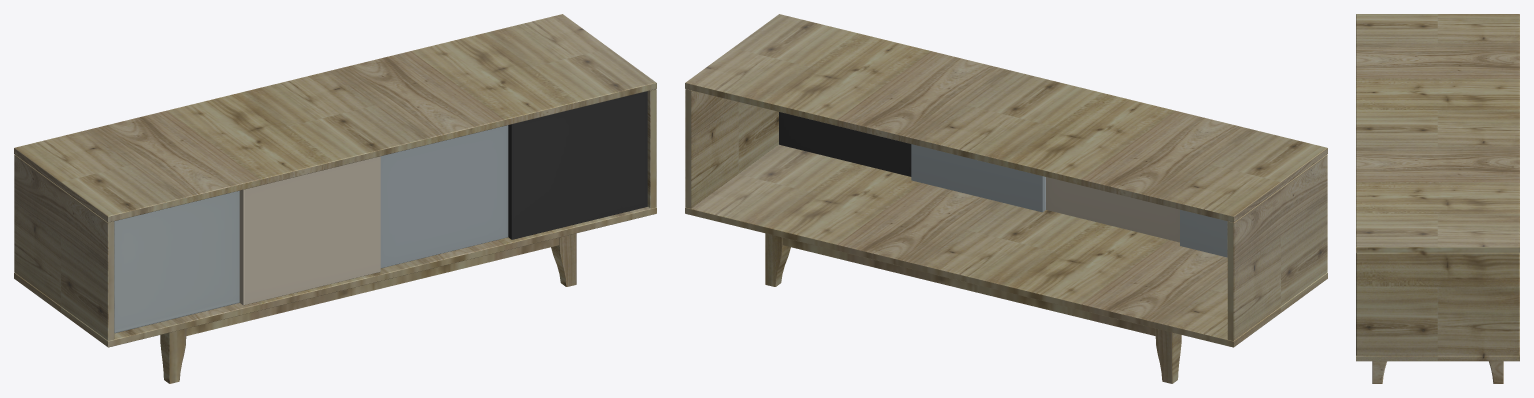
Rendered from raw_model.obj.
3 views of the same model, side by side, from view 1: azimuth 30°, elevation 25°; view 2: azimuth 150°, elevation 25°; view 3: azimuth 270°, elevation 25° (orthographic). The views are drawn at different scales.
Parts seen in each view (by area): view 1: solid_001, solid_005, solid_003, solid_004, solid_002; view 2: solid_001, solid_004, solid_005, solid_003, solid_002; view 3: solid_001.
Boxes of the visible parts, x1,y1,x2,y2 form: solid_001: (14,14,656,383); solid_005: (239,156,380,305); solid_003: (508,91,647,239); solid_004: (380,125,508,268); solid_002: (114,191,239,333); solid_001: (685,14,1327,383); solid_004: (911,144,1045,212); solid_005: (1046,177,1179,242); solid_003: (779,112,911,176); solid_002: (1180,209,1227,257); solid_001: (1356,14,1519,383).
Bounding box in the file's own units: 1.35 × 0.4502 × 0.4.
Materials: 1 (1 with a texture image).
